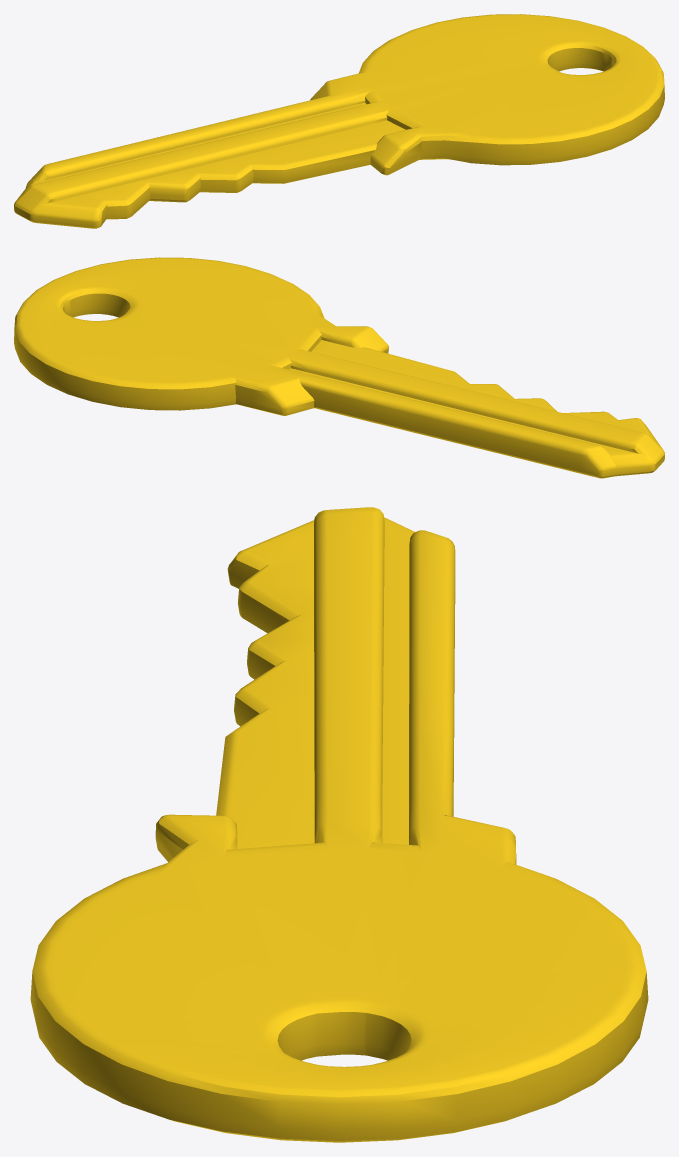
Rendered from Gold_key_v1.fbx.
3 views of the same model, one above another, from view 1: azimuth 30°, elevation 25°; view 2: azimuth 150°, elevation 25°; view 3: azimuth 270°, elevation 25° (orthographic). The views are drawn at different scales.
Visible parts, largest first — view 1: Circle; view 2: Circle; view 3: Circle.
Part boxes in pixels (<box>): Circle: <box>14,14,664,228</box>; Circle: <box>14,257,664,478</box>; Circle: <box>30,507,648,1142</box>.
Size of the model in its own units: 443 by 17.66 by 191.
